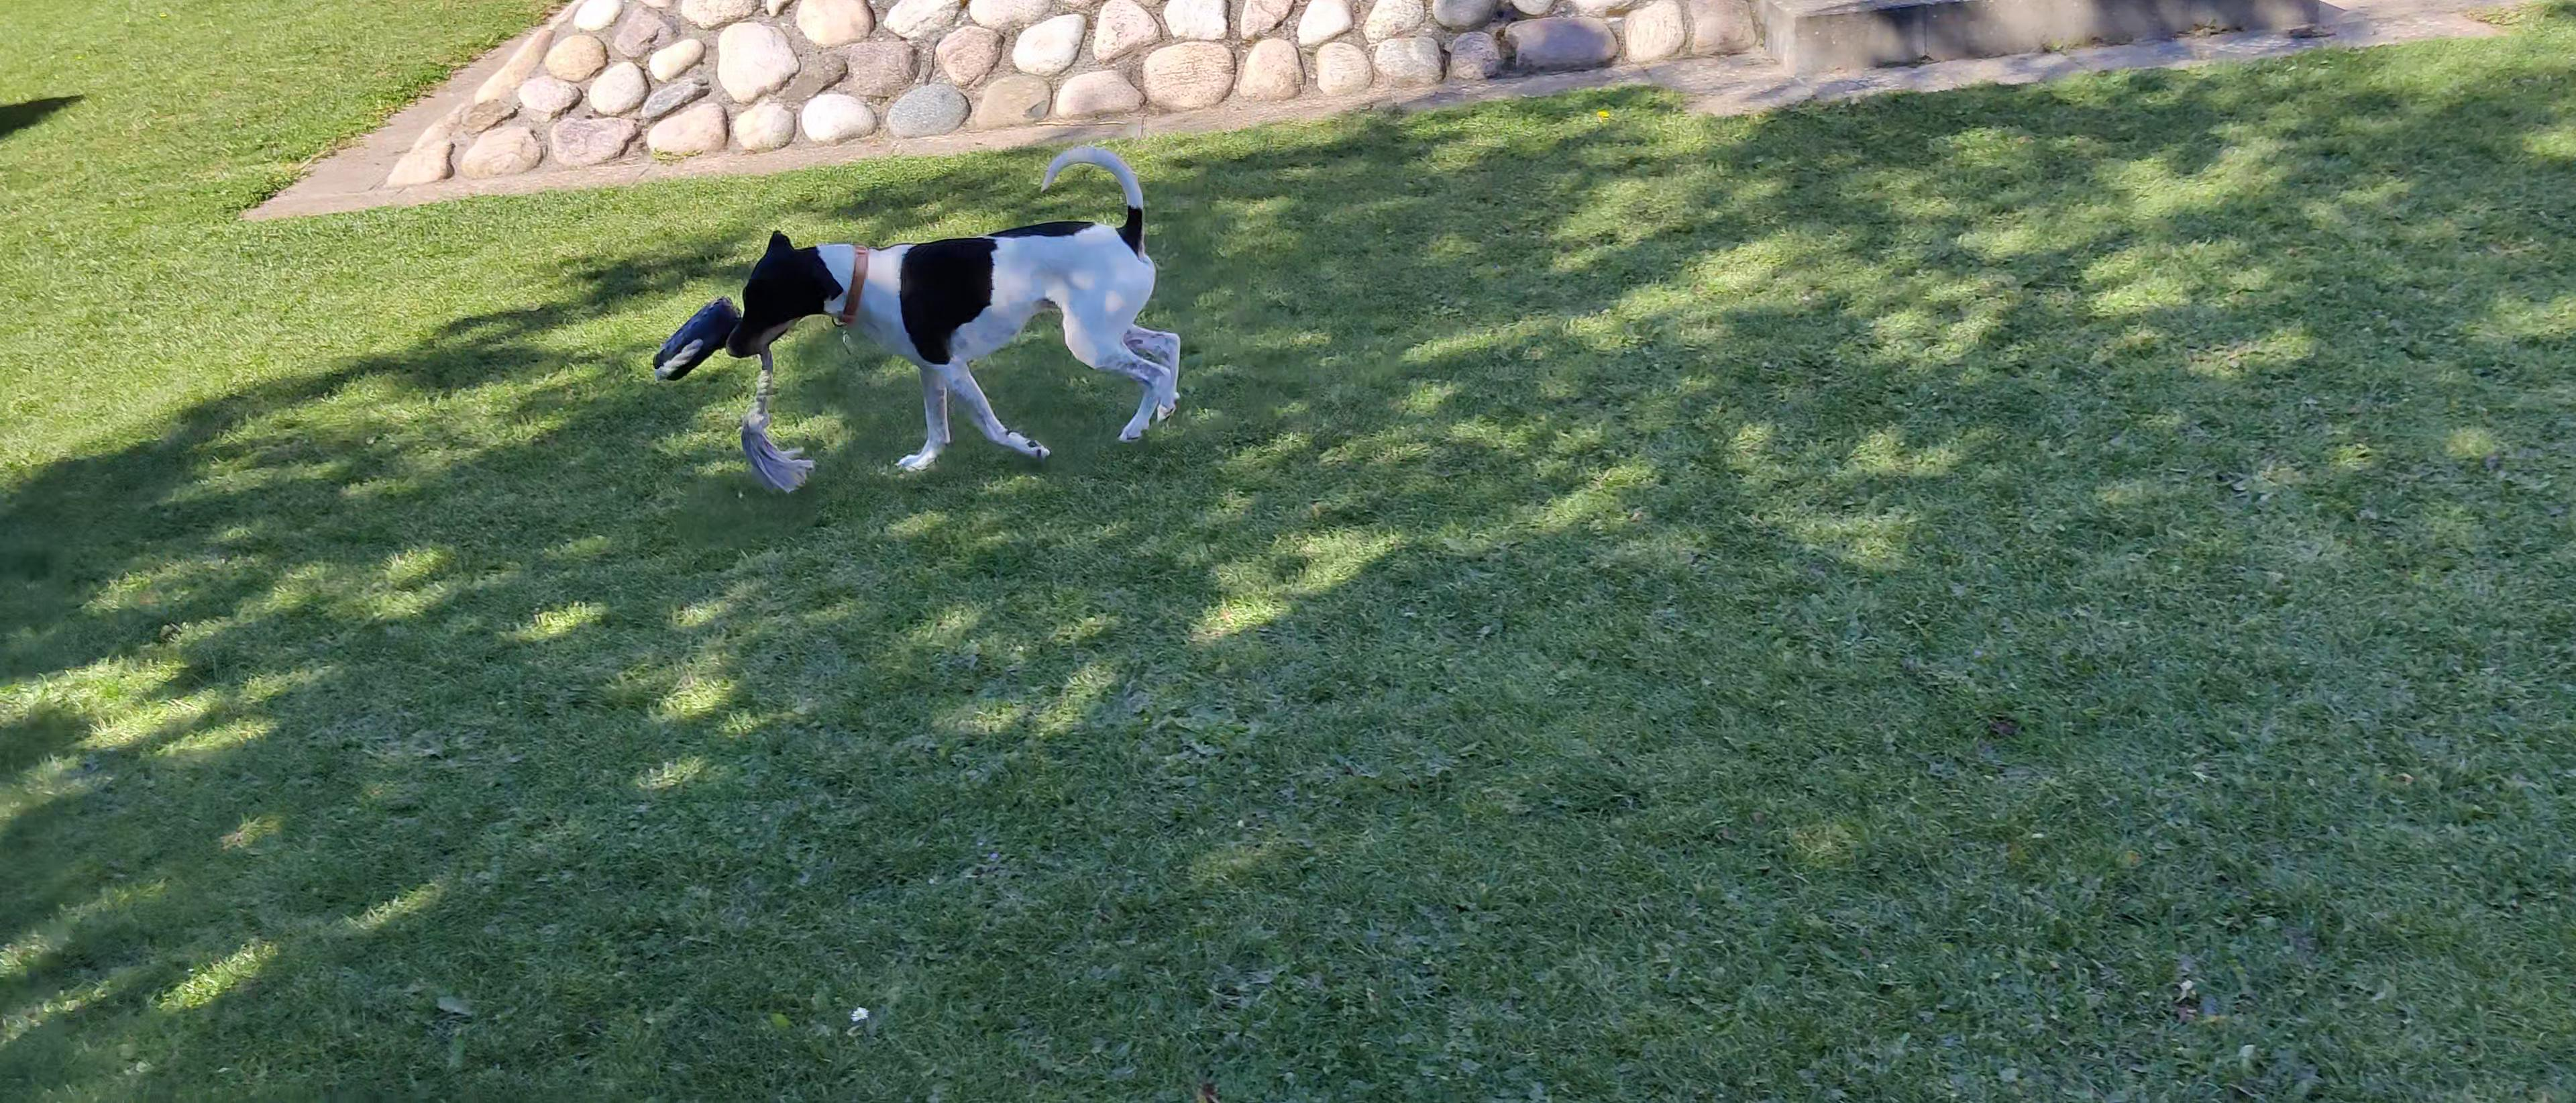Dog: (718, 138, 1201, 485)
